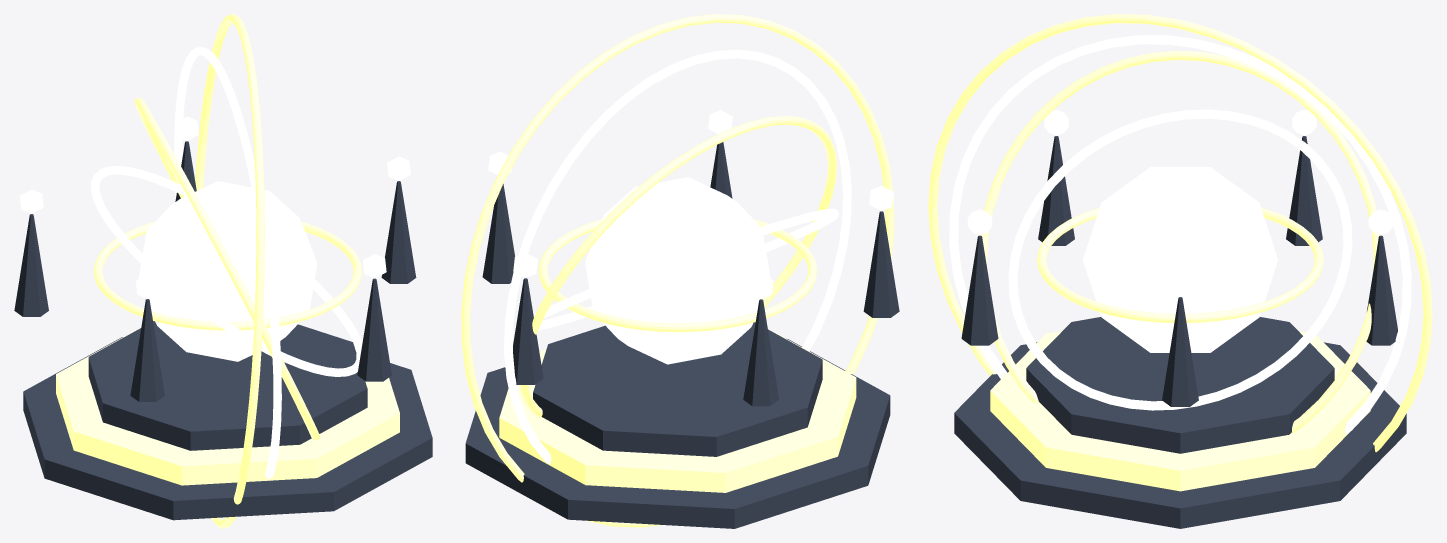
The model's file is gpu-blender-v14.glb.
The picture shows the model from 3 angles, left to right: view 1: azimuth 30°, elevation 25°; view 2: azimuth 150°, elevation 25°; view 3: azimuth 270°, elevation 25°; orthographic projection. The views are drawn at different scales.
Visible parts, largest first — view 1: Cylinder.002, Cylinder, SovereignCore_etsy-connector, Cylinder.001, Torus.004, Torus.003, Torus.001, Torus, Torus.002, Cone.004, Cone.002, Cone.003 (+1 smaller); view 2: Cylinder.002, SovereignCore_etsy-connector, Cylinder, Cylinder.001, Torus.004, Torus.003, Torus.002, Torus, Torus.001, Cone.002, Cone.003, Cone (+2 smaller); view 3: SovereignCore_etsy-connector, Cylinder.002, Cylinder, Cylinder.001, Torus.004, Torus.001, Torus.003, Torus.002, Torus, Cone.004, Cone, Cone.001 (+2 smaller).
Part boxes in pixels (left/top/right/bottom): Cylinder.002: left=88, top=321, right=367, bottom=450; Cylinder: left=23, top=337, right=432, bottom=520; SovereignCore_etsy-connector: left=138, top=181, right=317, bottom=361; Cylinder.001: left=56, top=328, right=399, bottom=485; Torus.004: left=195, top=14, right=264, bottom=528; Torus.003: left=174, top=46, right=281, bottom=478; Torus.001: left=91, top=166, right=362, bottom=376; Torus: left=93, top=221, right=362, bottom=330; Torus.002: left=134, top=97, right=320, bottom=440; Cone.004: left=357, top=278, right=391, bottom=381; Cone.002: left=14, top=214, right=48, bottom=316; Cone.003: left=130, top=299, right=164, bottom=401; Cylinder.002: left=533, top=322, right=822, bottom=456; SovereignCore_etsy-connector: left=585, top=177, right=770, bottom=364; Cylinder: left=465, top=338, right=890, bottom=528; Cylinder.001: left=499, top=330, right=856, bottom=492; Torus.004: left=461, top=14, right=894, bottom=527; Torus.003: left=504, top=49, right=851, bottom=463; Torus.002: left=519, top=116, right=836, bottom=417; Torus: left=538, top=219, right=817, bottom=332; Torus.001: left=533, top=208, right=838, bottom=330; Cone.002: left=743, top=299, right=778, bottom=406; Cone.003: left=863, top=211, right=899, bottom=317; Cone: left=482, top=184, right=514, bottom=283; SovereignCore_etsy-connector: left=1083, top=167, right=1277, bottom=352; Cylinder.002: left=1026, top=317, right=1334, bottom=453; Cylinder: left=954, top=342, right=1406, bottom=528; Cylinder.001: left=990, top=330, right=1370, bottom=491; Torus.004: left=928, top=14, right=1432, bottom=452; Torus.001: left=1008, top=109, right=1352, bottom=410; Torus.003: left=949, top=35, right=1411, bottom=434; Torus.002: left=980, top=50, right=1380, bottom=433; Torus: left=1037, top=207, right=1323, bottom=322; Cone.004: left=961, top=235, right=998, bottom=345; Cone: left=1162, top=297, right=1198, bottom=406; Cone.001: left=1366, top=235, right=1397, bottom=345.
Size of the model in its own units: 4.41 by 5.33 by 4.9.
